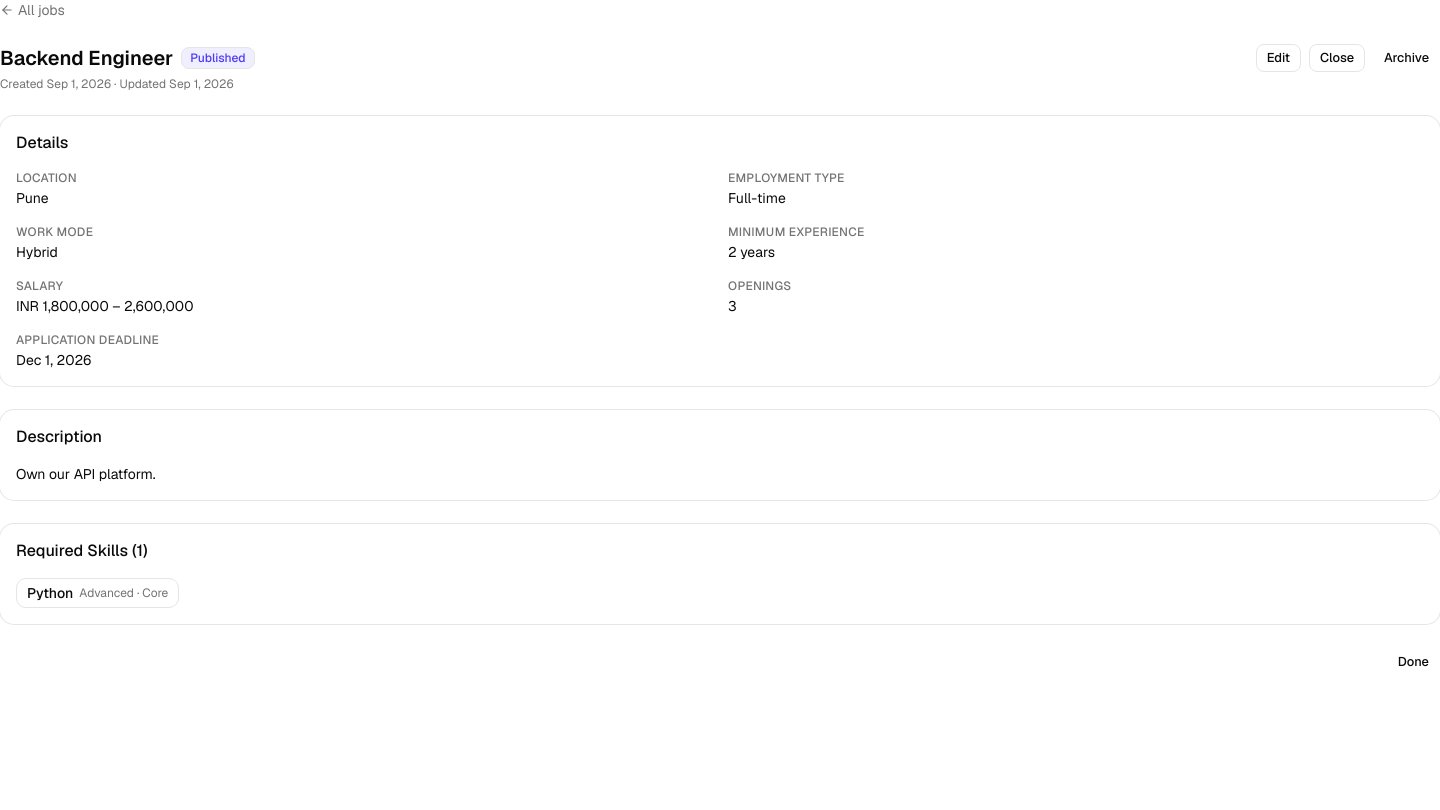
it: JobDetailView › archives a published job via the confirmation dialog
The width and height of the screenshot is (1440, 810).
expect the heading "Backend Engineer" is shown: met, box [0,44,173,72]
Click the button "Archive" at [1406, 58], box [1373,44,1439,72]
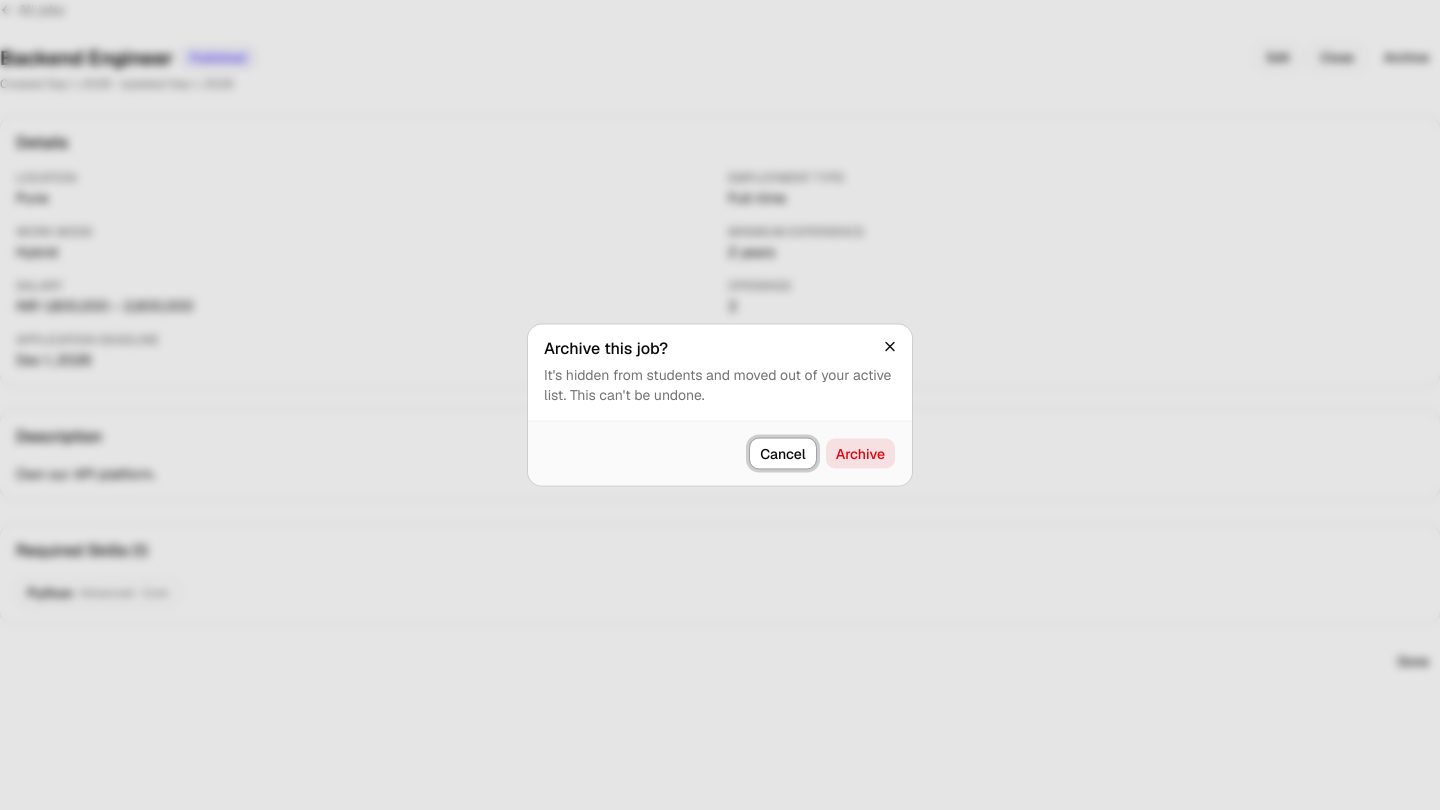
Click the button "Archive" at [860, 454], box [825,438,896,470]
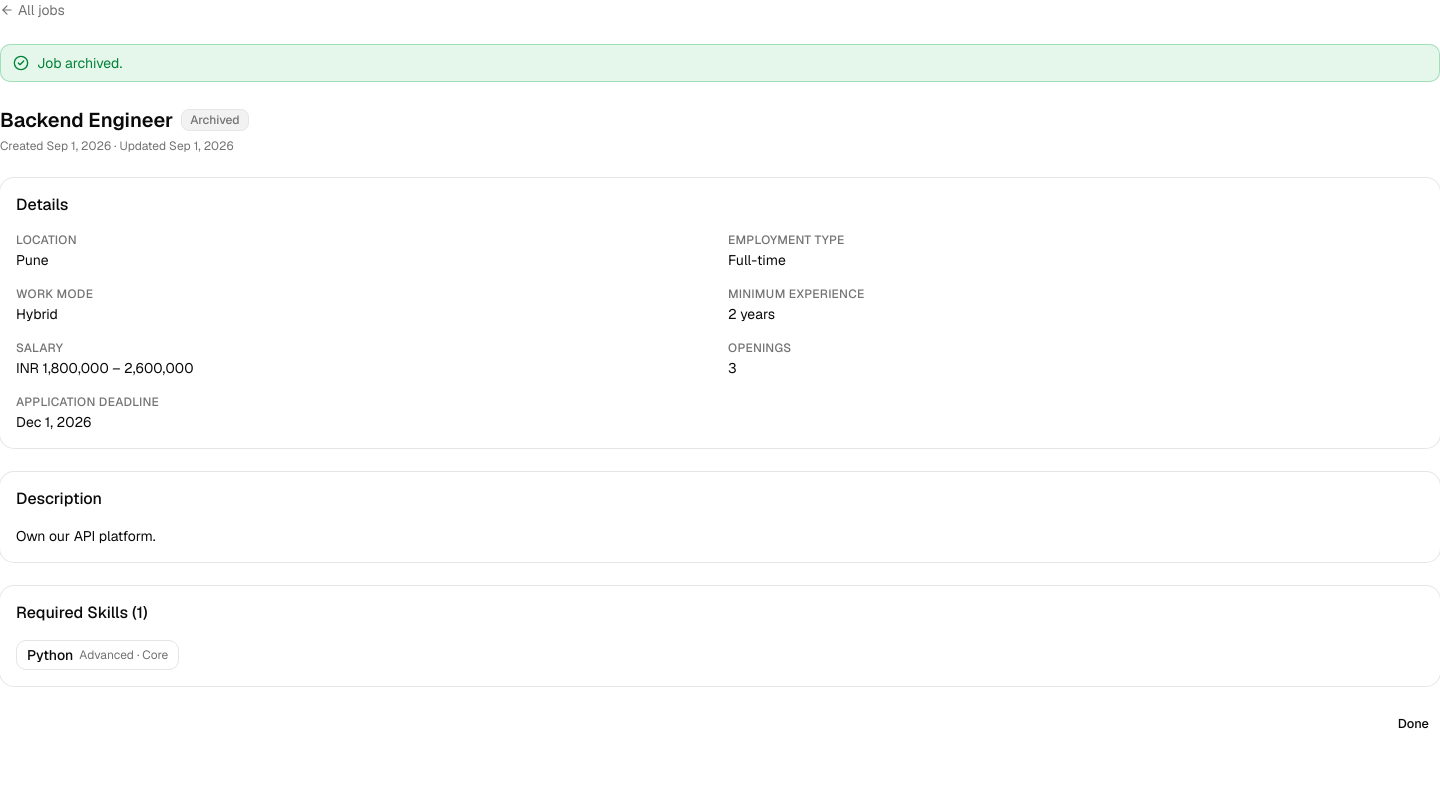
expect the text "Job archived." is shown: met, box [37,53,122,73]
